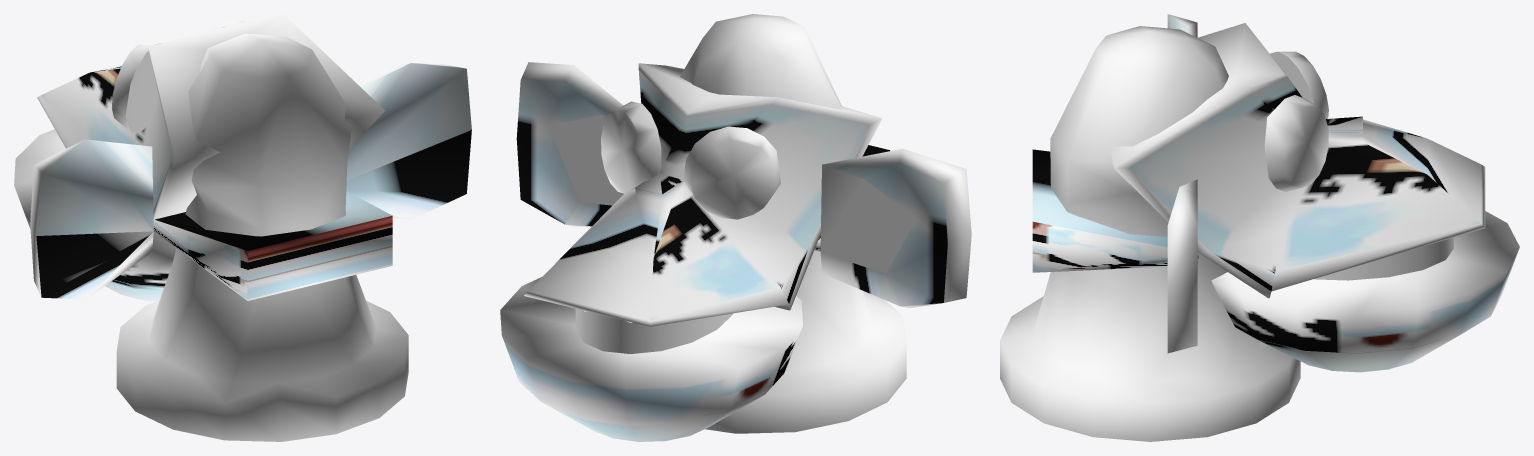
File: static.ico.obj
3 renders of one model, left to right at view 1: azimuth 30°, elevation 25°; view 2: azimuth 150°, elevation 25°; view 3: azimuth 270°, elevation 25°, orthographic. The views are drawn at different scales.
Size of the model in its own units: 3.33 by 2.48 by 3.37.
